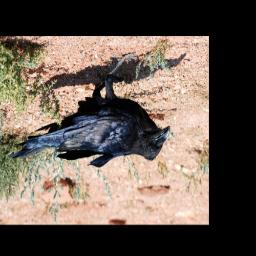Crow: (9, 51, 172, 169)
